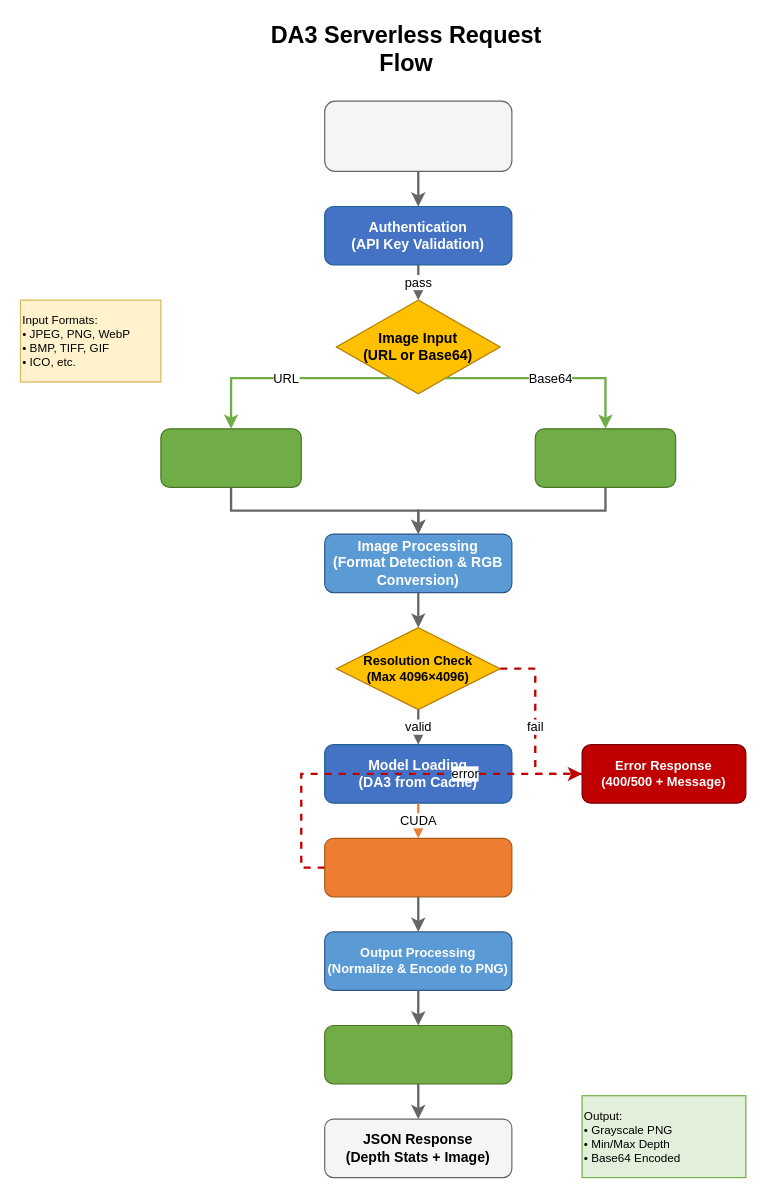
Image size: 777x1198. Some labels were removed from this diagram. The shapes that lost their labels are listed below. From the top down, each one's centre as x and y in pixels, then its label:
At pixel 418 135: "Client Request (HTTP POST)".
At pixel 230 457: "HTTP GET (Download Image)".
At pixel 605 457: "Decode (Base64 → Binary)".
At pixel 418 867: "GPU Inference (PyTorch CUDA)".
At pixel 418 1054: "Base64 Encoding (PNG → Base64)".
